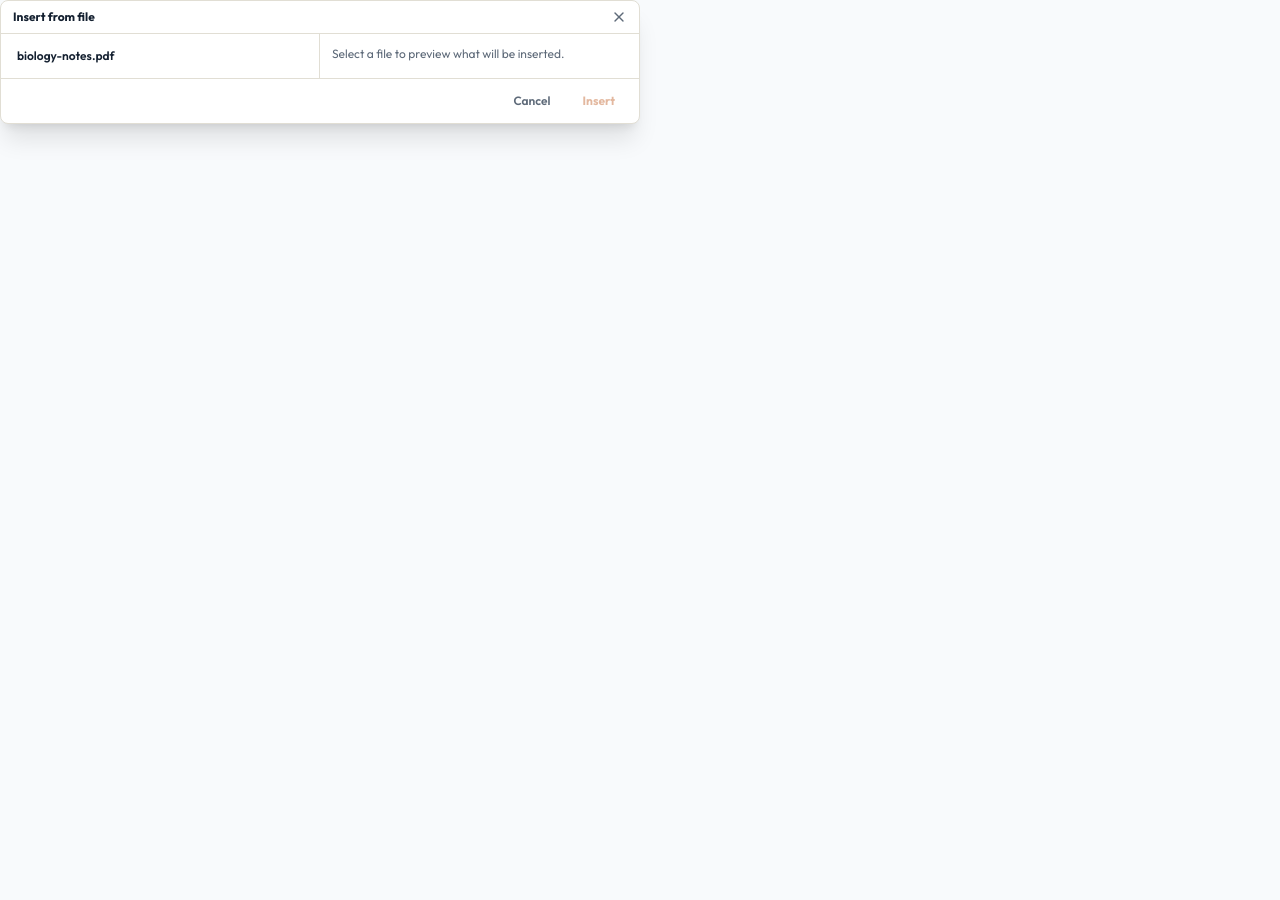
Test: InsertFromFilePicker › opening a file defaults to "Whole file" selected and previews the whole parsed content
Click the option "biology-notes.pdf": [66, 56] box [9,42,311,70]
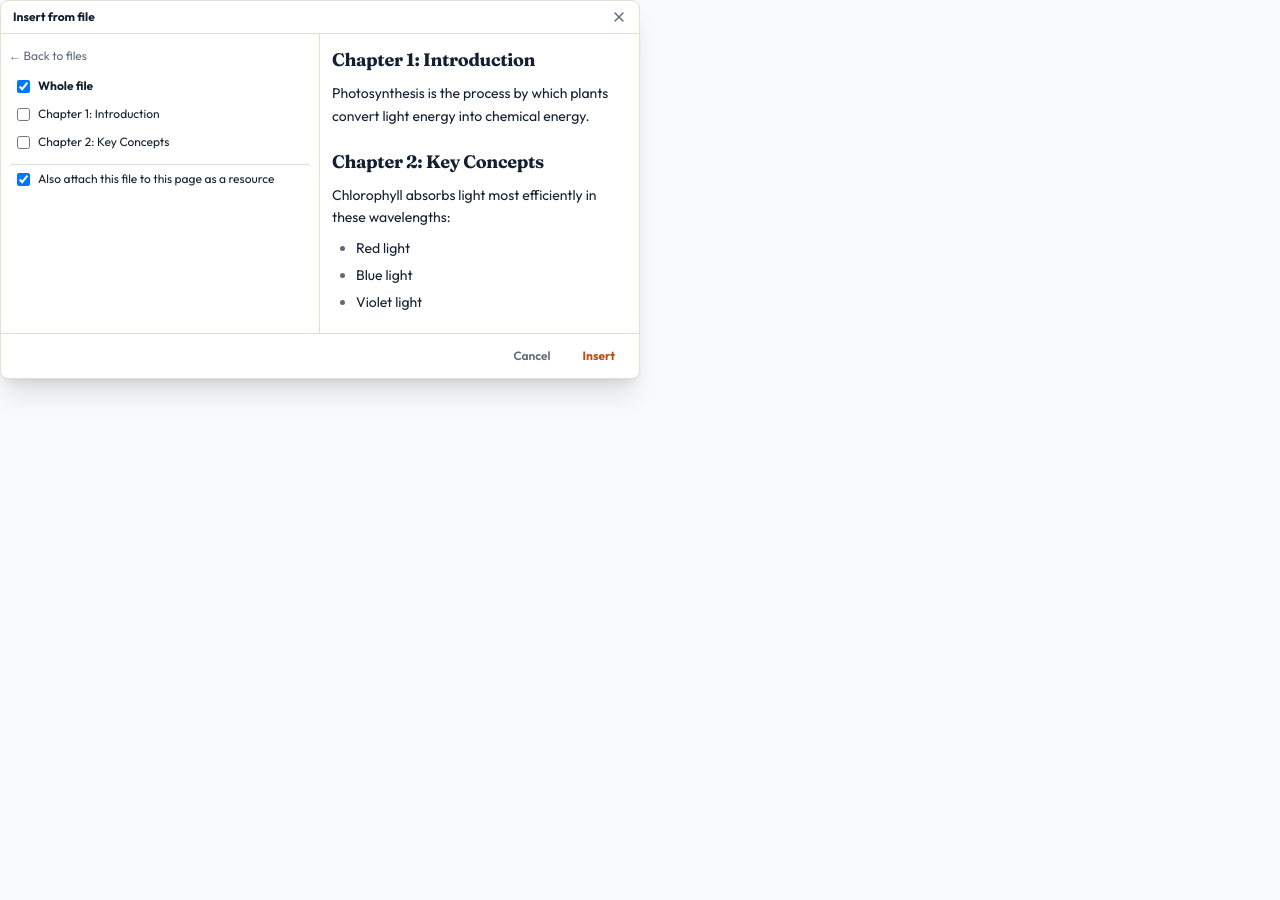
expect the checkbox labelled "Whole file" is checked: met, box [17,80,30,92]
expect the heading "Chapter 1: Introduction" is shown: met, box [332,48,535,71]
expect the heading "Chapter 2: Key Concepts" is shown: met, box [332,150,544,172]
